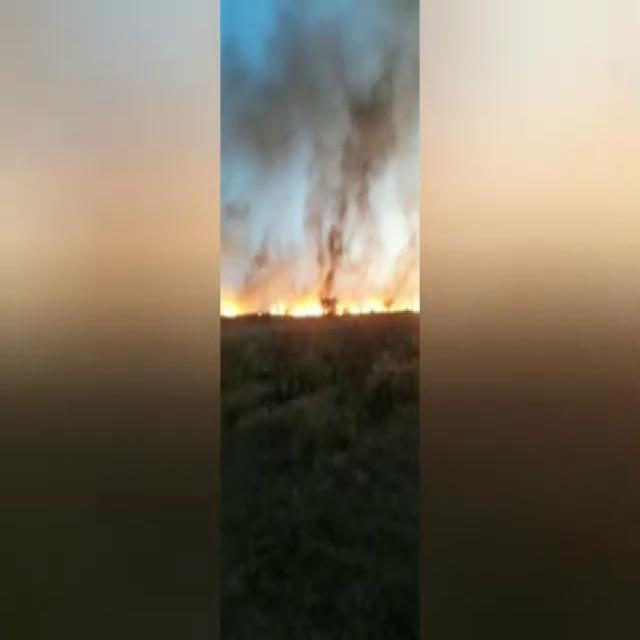Fire: (340, 286, 420, 316), (269, 289, 326, 320), (222, 292, 242, 318)
Smoke: (226, 0, 418, 289), (328, 40, 405, 252)
